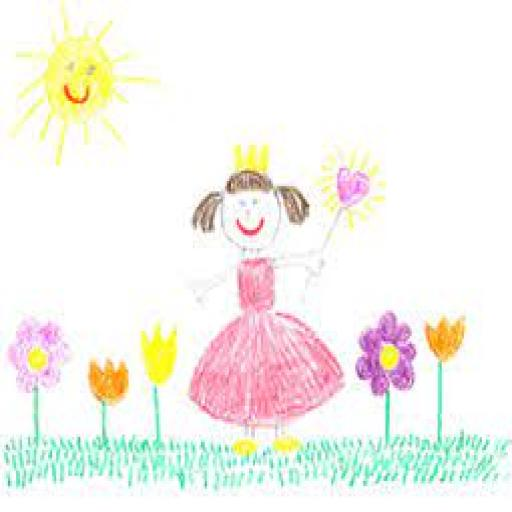person: (165, 132, 346, 474)
